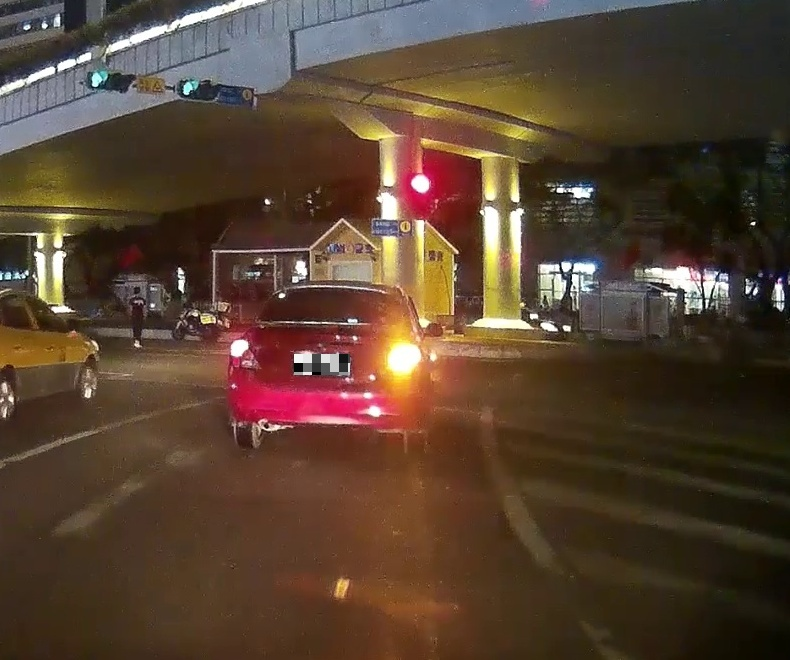L_light: (230, 340, 262, 370)
R_light: (384, 345, 418, 375)
T_light: (320, 289, 351, 294)
night-right: (227, 283, 431, 454)
plate_1: (294, 354, 350, 375)
